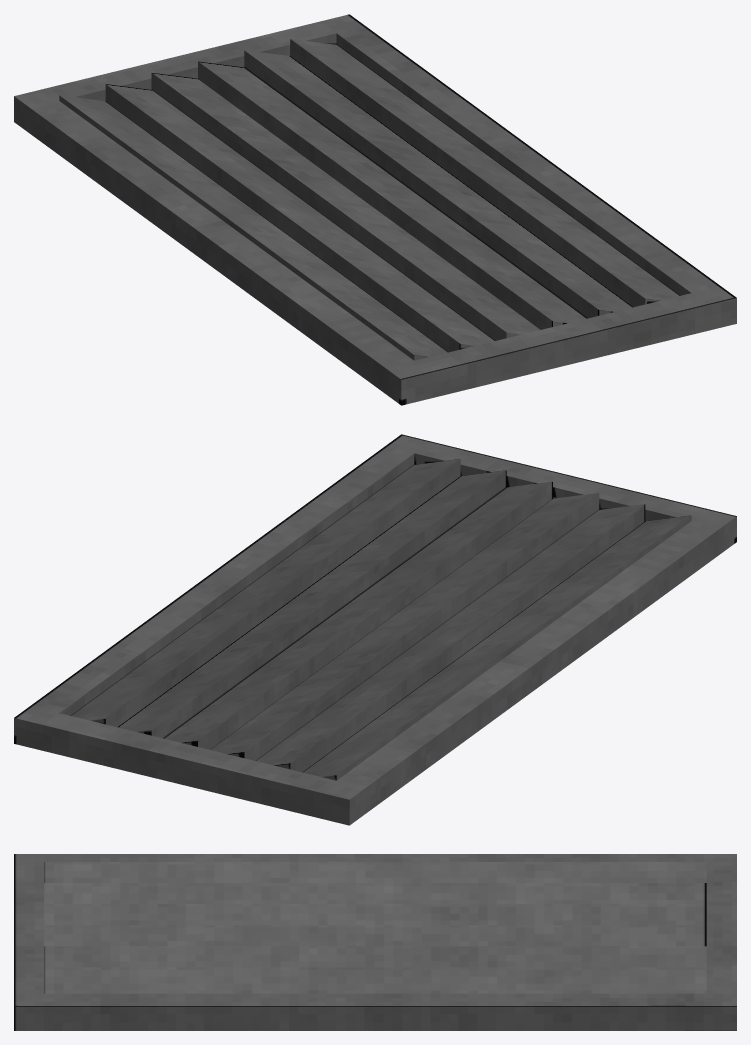
File: wallVent.fbx
3 renders of one model, top to bottom at view 1: azimuth 30°, elevation 25°; view 2: azimuth 150°, elevation 25°; view 3: azimuth 270°, elevation 25°, orthographic. The views are drawn at different scales.
Parts seen in each view (by area): view 1: wallvent; view 2: wallvent; view 3: wallvent.
Boxes of the visible parts, x1,y1,x2,y2 form: wallvent: (14, 14, 736, 405); wallvent: (14, 434, 736, 825); wallvent: (14, 854, 736, 1030).
Bounding box in the file's own units: 1.4 × 0.7 × 0.0628.
